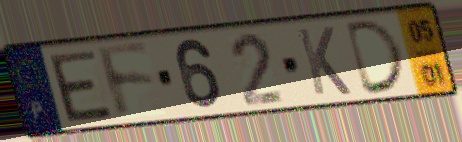2: (227, 30, 288, 109)
6: (174, 37, 225, 112)
D: (343, 16, 409, 98)
E: (45, 47, 117, 124)
F: (93, 41, 159, 123)
K: (294, 25, 355, 98)
